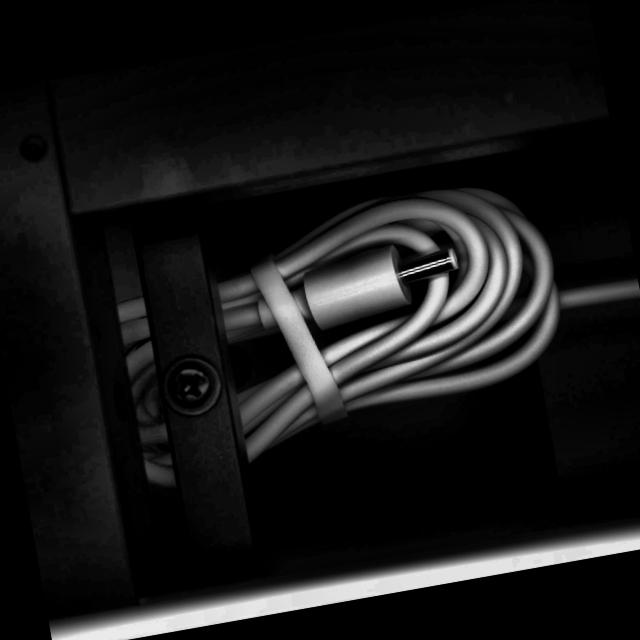Cable: (103, 150, 640, 499)
